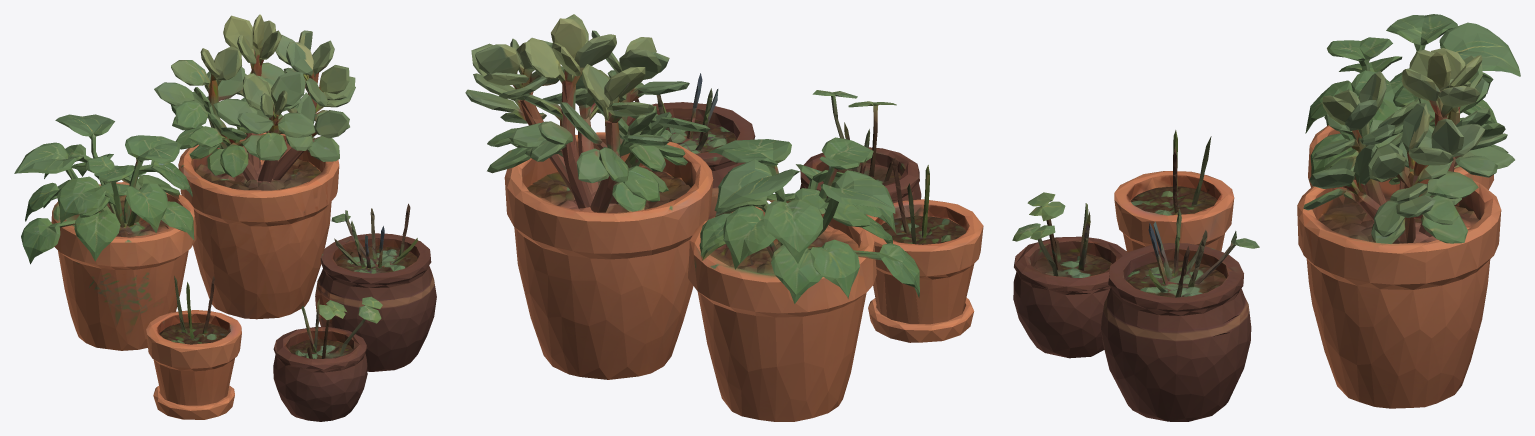
The model's file is clay_pots_cluster.glb.
The picture shows the model from 3 angles, left to right: view 1: azimuth 30°, elevation 25°; view 2: azimuth 150°, elevation 25°; view 3: azimuth 270°, elevation 25°; orthographic projection. The views are drawn at different scales.
Parts seen in each view (by area): view 1: clay_pots_cluster; view 2: clay_pots_cluster; view 3: clay_pots_cluster.
Part boxes in pixels (<box>): clay_pots_cluster: <box>14,14,436,421</box>; clay_pots_cluster: <box>465,14,983,421</box>; clay_pots_cluster: <box>1012,14,1520,421</box>.
Size of the model in its own units: 0.7847 by 0.6 by 0.7991.
1 material, 1 textured.
